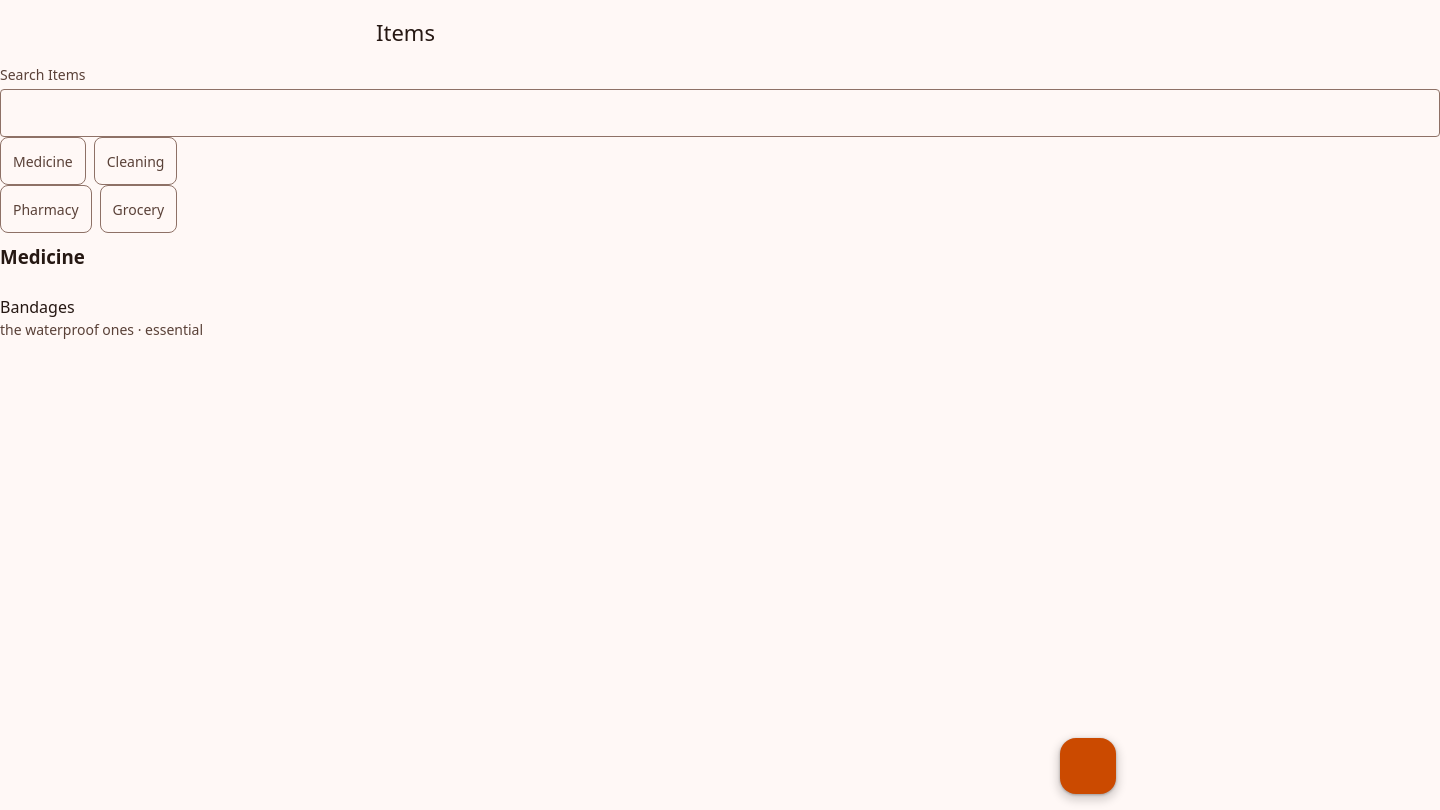
it: editing an Item › deletes that Item and closes the dialog at once, without waiting on the write
Click the button "Bandages the waterproof ones · essential" at coordinates (37, 306), box [0,281,1424,353]
(page scrolled)
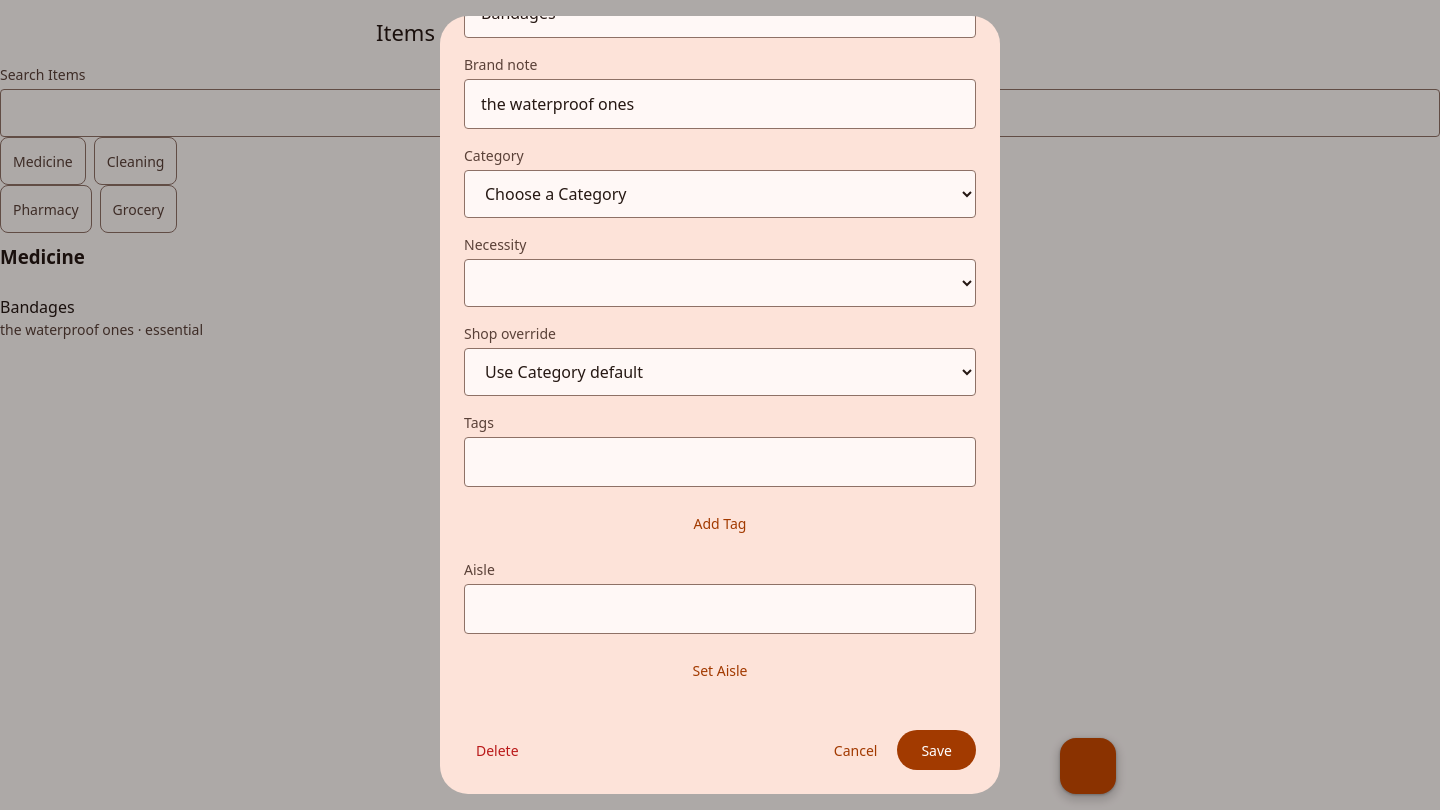
Click the button "Delete" at coordinates (497, 750), box [464,730,531,770]
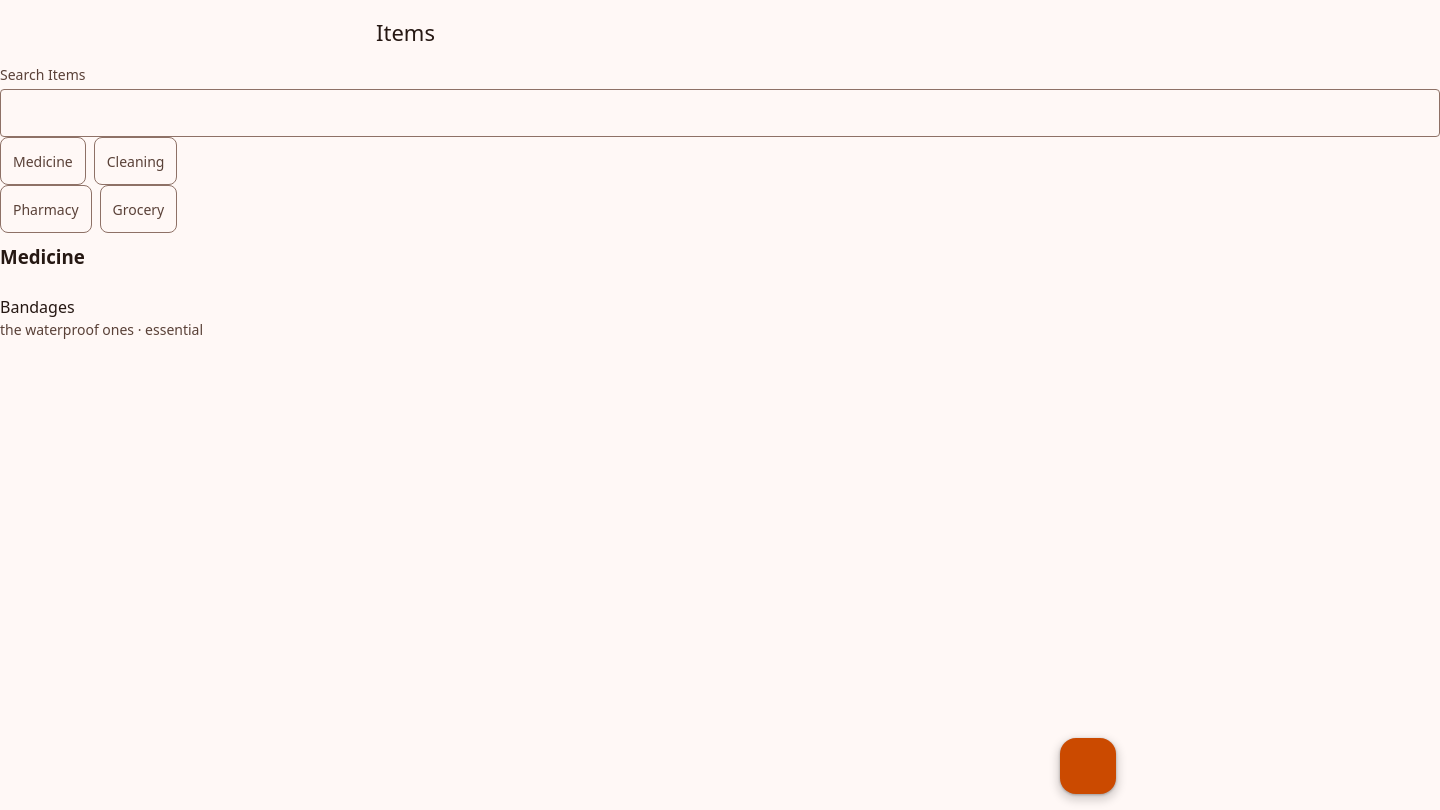
Result: the dialog is gone
